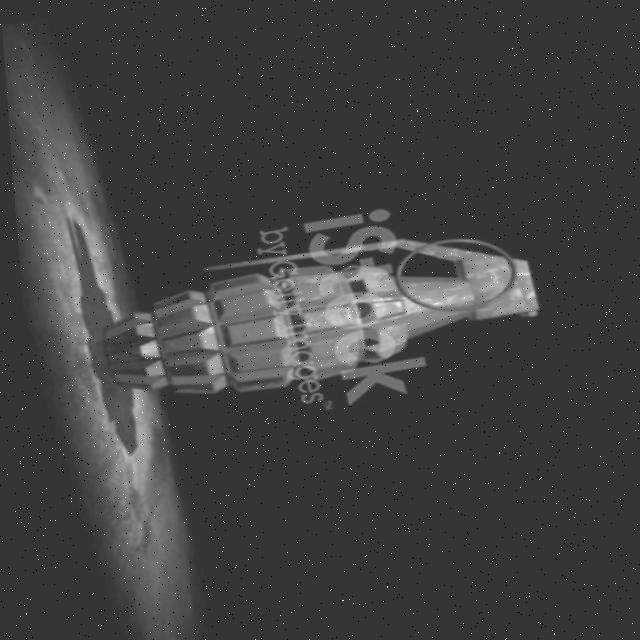grenade: (62, 202, 563, 425)
